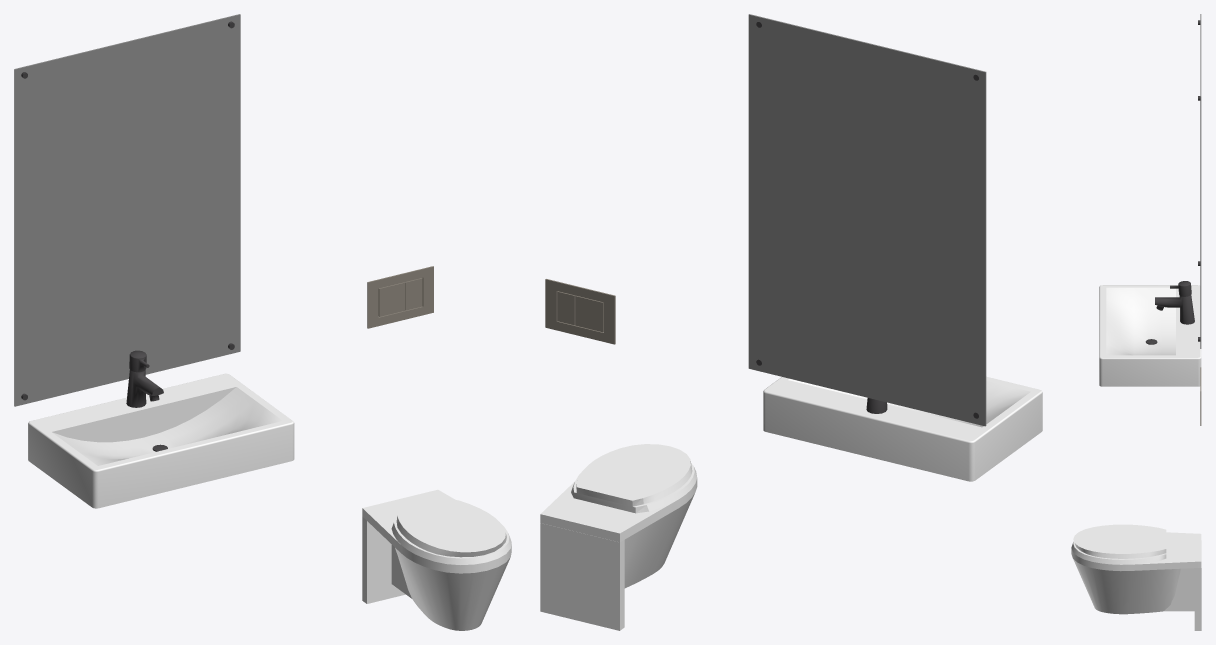
The model's file is Bathroom_downstairs.FBX.
3 views of the same model, side by side, from view 1: azimuth 30°, elevation 25°; view 2: azimuth 150°, elevation 25°; view 3: azimuth 270°, elevation 25° (orthographic). The views are drawn at different scales.
Parts seen in each view (by area): view 1: Mirror_downstairs, Sink_downstairs, Toilet_downstairs; view 2: Mirror_downstairs, Toilet_downstairs, Sink_downstairs; view 3: Toilet_downstairs, Sink_downstairs, Mirror_downstairs.
Boxes of the visible parts, <box> form: Mirror_downstairs: <box>14,14,240,406</box>; Sink_downstairs: <box>28,350,294,508</box>; Toilet_downstairs: <box>362,266,511,630</box>; Mirror_downstairs: <box>748,14,986,426</box>; Toilet_downstairs: <box>540,279,697,630</box>; Sink_downstairs: <box>763,376,1042,481</box>; Toilet_downstairs: <box>1071,367,1201,630</box>; Sink_downstairs: <box>1099,281,1201,386</box>; Mirror_downstairs: <box>1198,14,1201,348</box>.
Bounding box in the file's own units: 63.5 × 86.42 × 22.07.
